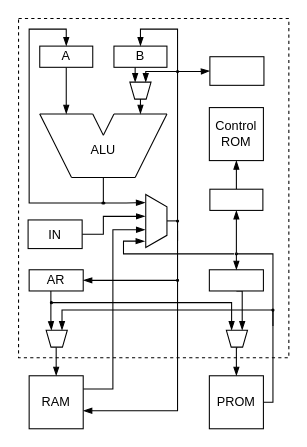
Image size: 307x447. Some labels were removed from this diagram. Here are the shapes that lost their labels. From the top down, the centre of each, then its label:
the point at 236,70: OUT
the point at 236,199: IR
the point at 235,280: PC
